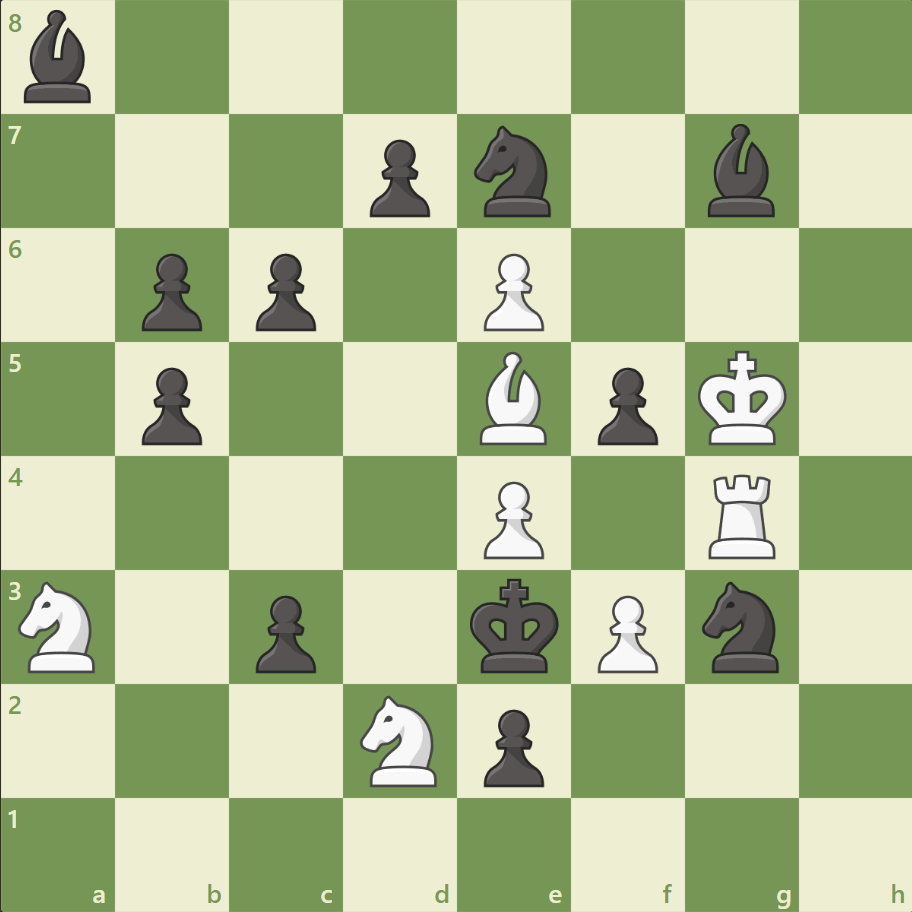B: (471, 347, 555, 449)
K: (692, 344, 792, 452)
N: (351, 688, 449, 791), (11, 575, 108, 677)
P: (474, 246, 549, 337), (474, 473, 549, 564), (588, 586, 662, 677)
R: (700, 466, 783, 563)
b: (17, 6, 101, 109), (698, 120, 782, 222)
k: (465, 571, 565, 679)
n: (465, 121, 562, 223), (692, 575, 789, 677)
p: (133, 246, 208, 337), (247, 246, 322, 337), (133, 359, 208, 450), (247, 586, 322, 677), (474, 700, 549, 791), (361, 132, 435, 223), (588, 359, 662, 450)
